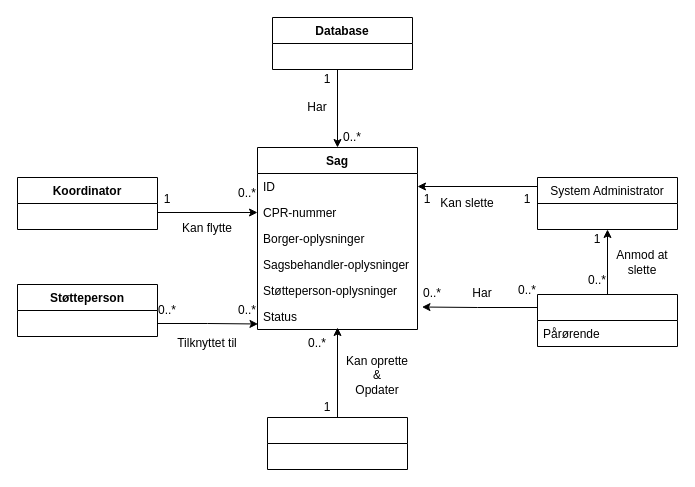
This 695x487 diagram has some shape labels left out. Here are the shapes that lost their labels. From the top down, the box of each, then its label:
(536, 294, 678, 346): Borger
(266, 416, 408, 470): Sagsbehandler
